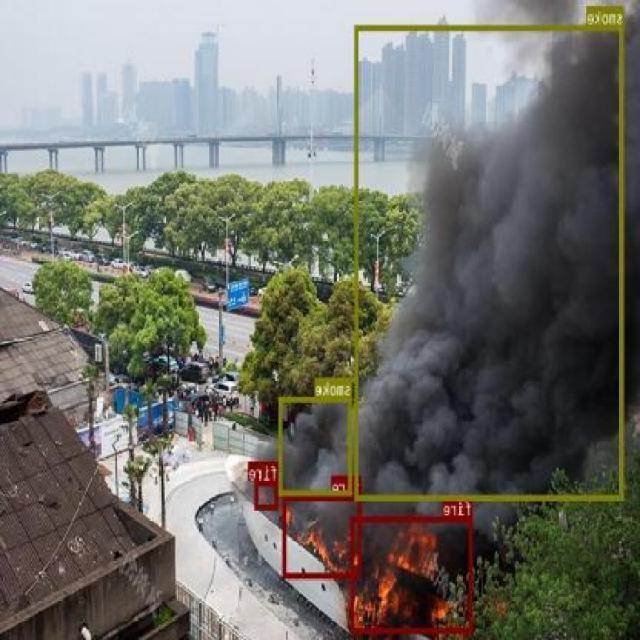Fire: (352, 516, 474, 632), (283, 494, 362, 577), (256, 479, 278, 508)
Smoke: (356, 23, 624, 500), (280, 396, 352, 494)
